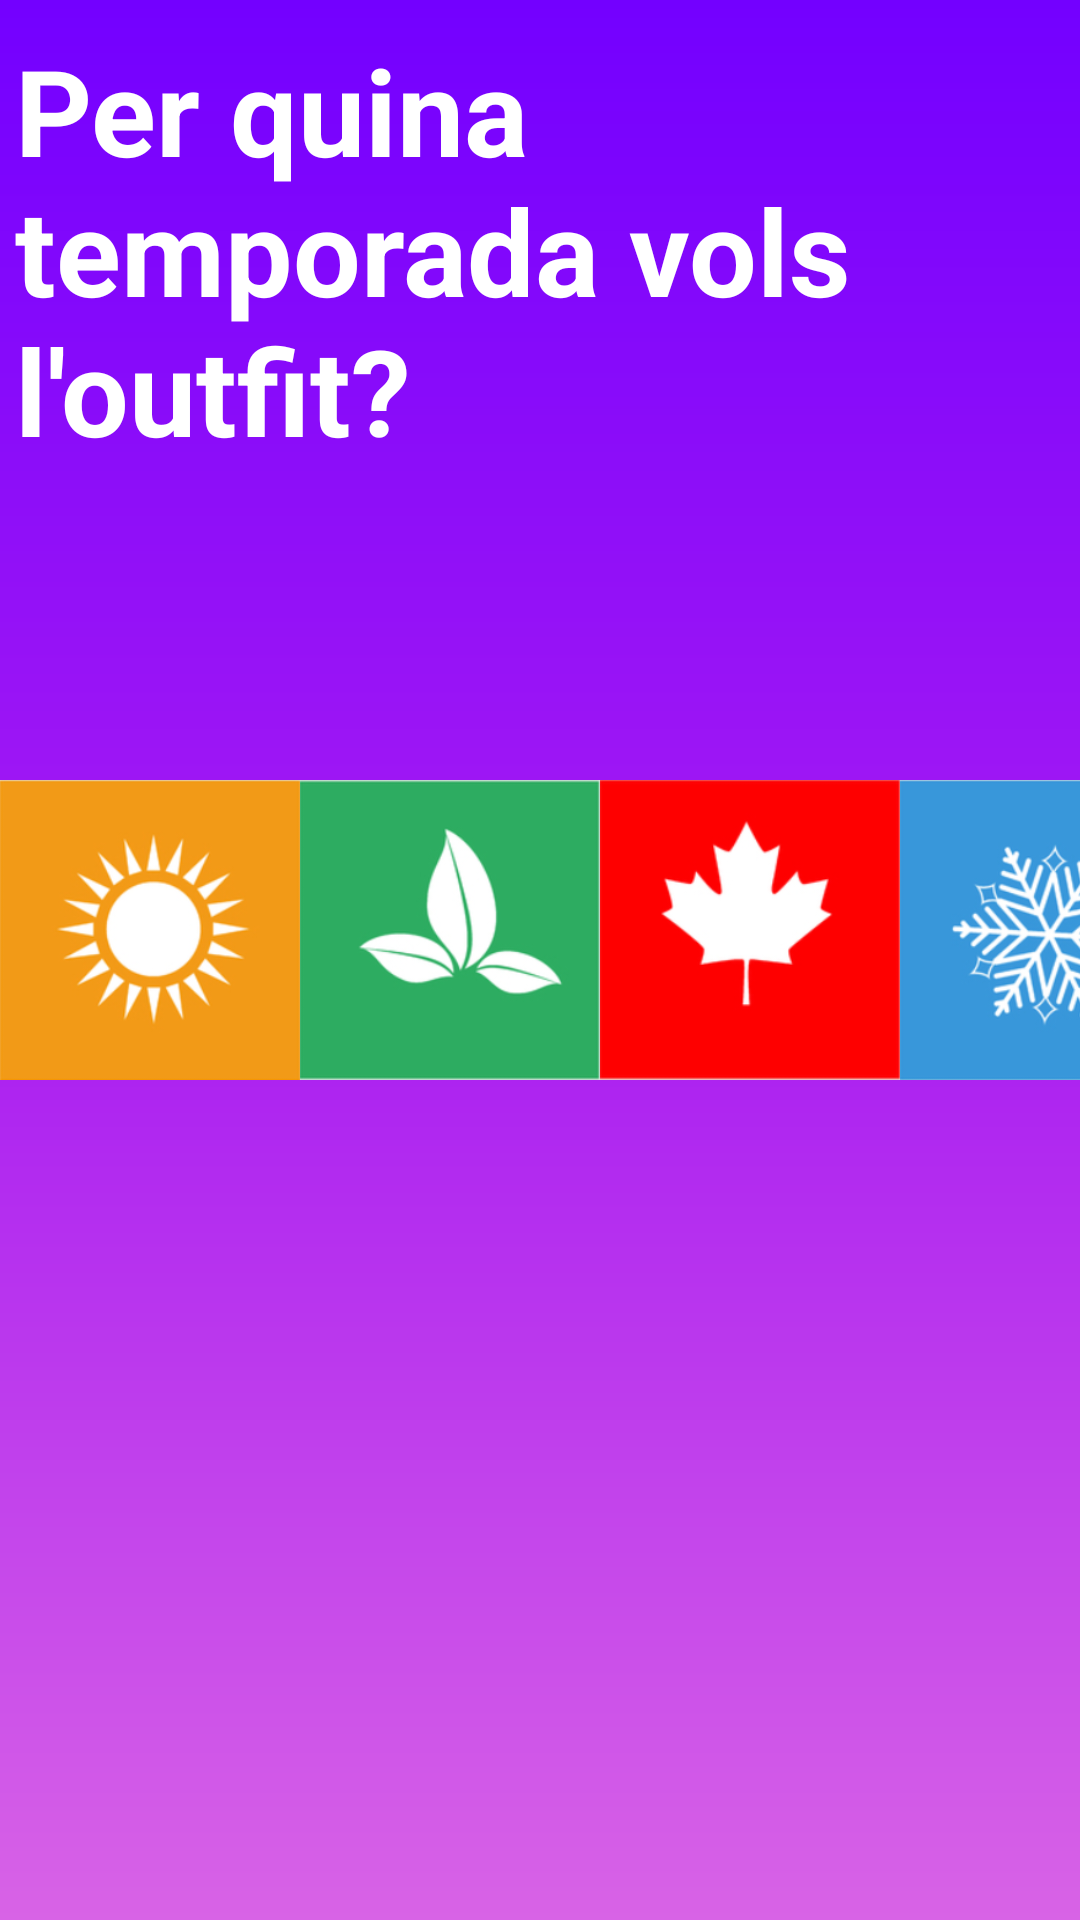

Where to tap for icons on this 1080 x 1920 app screen, as point (x, y):
estiu: point (150, 930)
primavera: point (450, 930)
tardor: point (750, 930)
